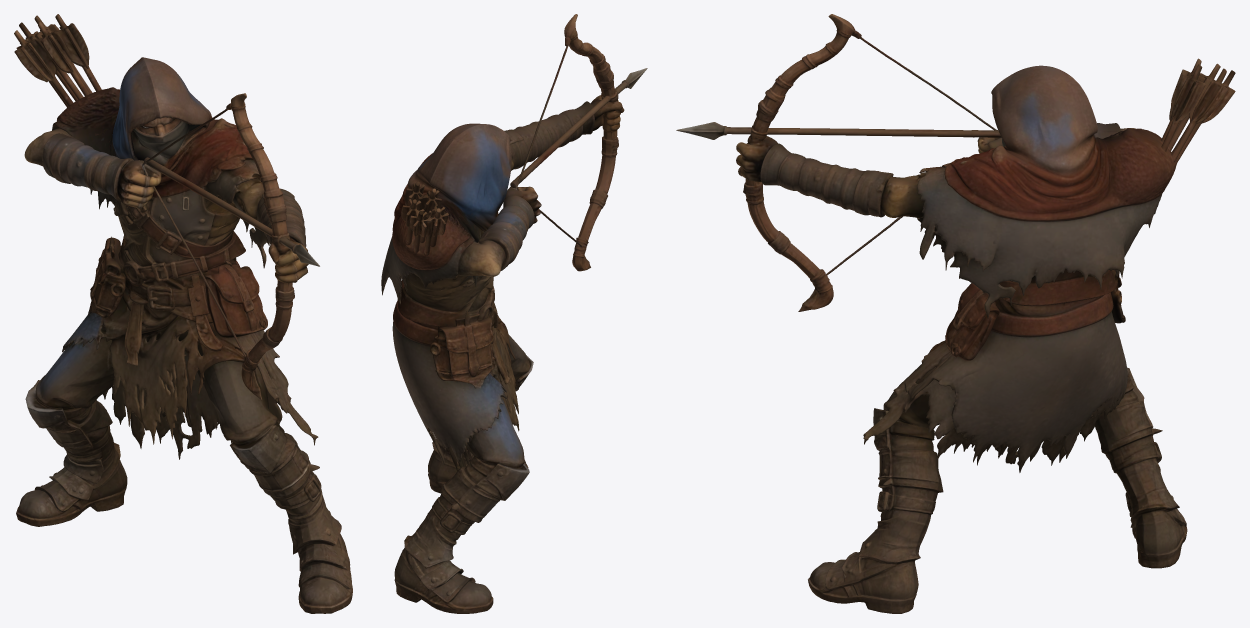
The model's file is enemy_bandit_archer_01.glb.
3 renders of one model, left to right at view 1: azimuth 30°, elevation 25°; view 2: azimuth 150°, elevation 25°; view 3: azimuth 270°, elevation 25°, orthographic. The views are drawn at different scales.
Visible parts, largest first — view 1: material; view 2: material; view 3: material.
Boxes of the visible parts, box(x1,y1,x2,y2) form: material: box(14, 14, 352, 613); material: box(381, 14, 647, 613); material: box(676, 14, 1235, 613).
Bounding box in the file's own units: 0.3944 × 0.9409 × 0.888.
1 material, 1 textured.
